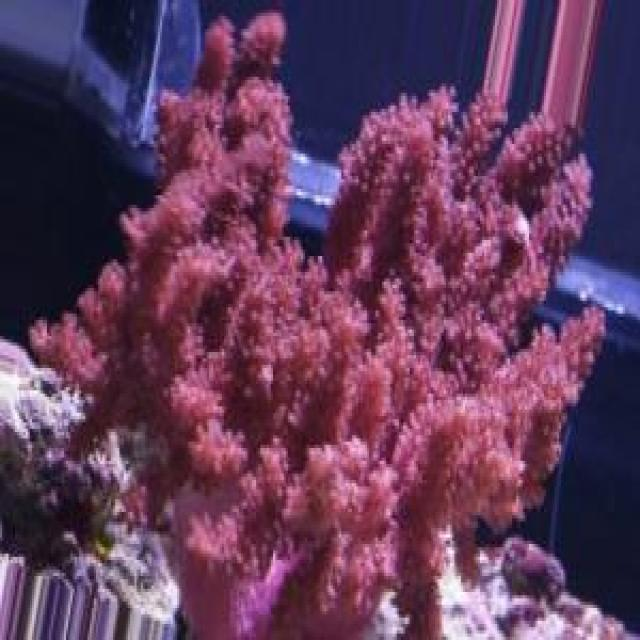healthy coral: (36, 15, 604, 638)
